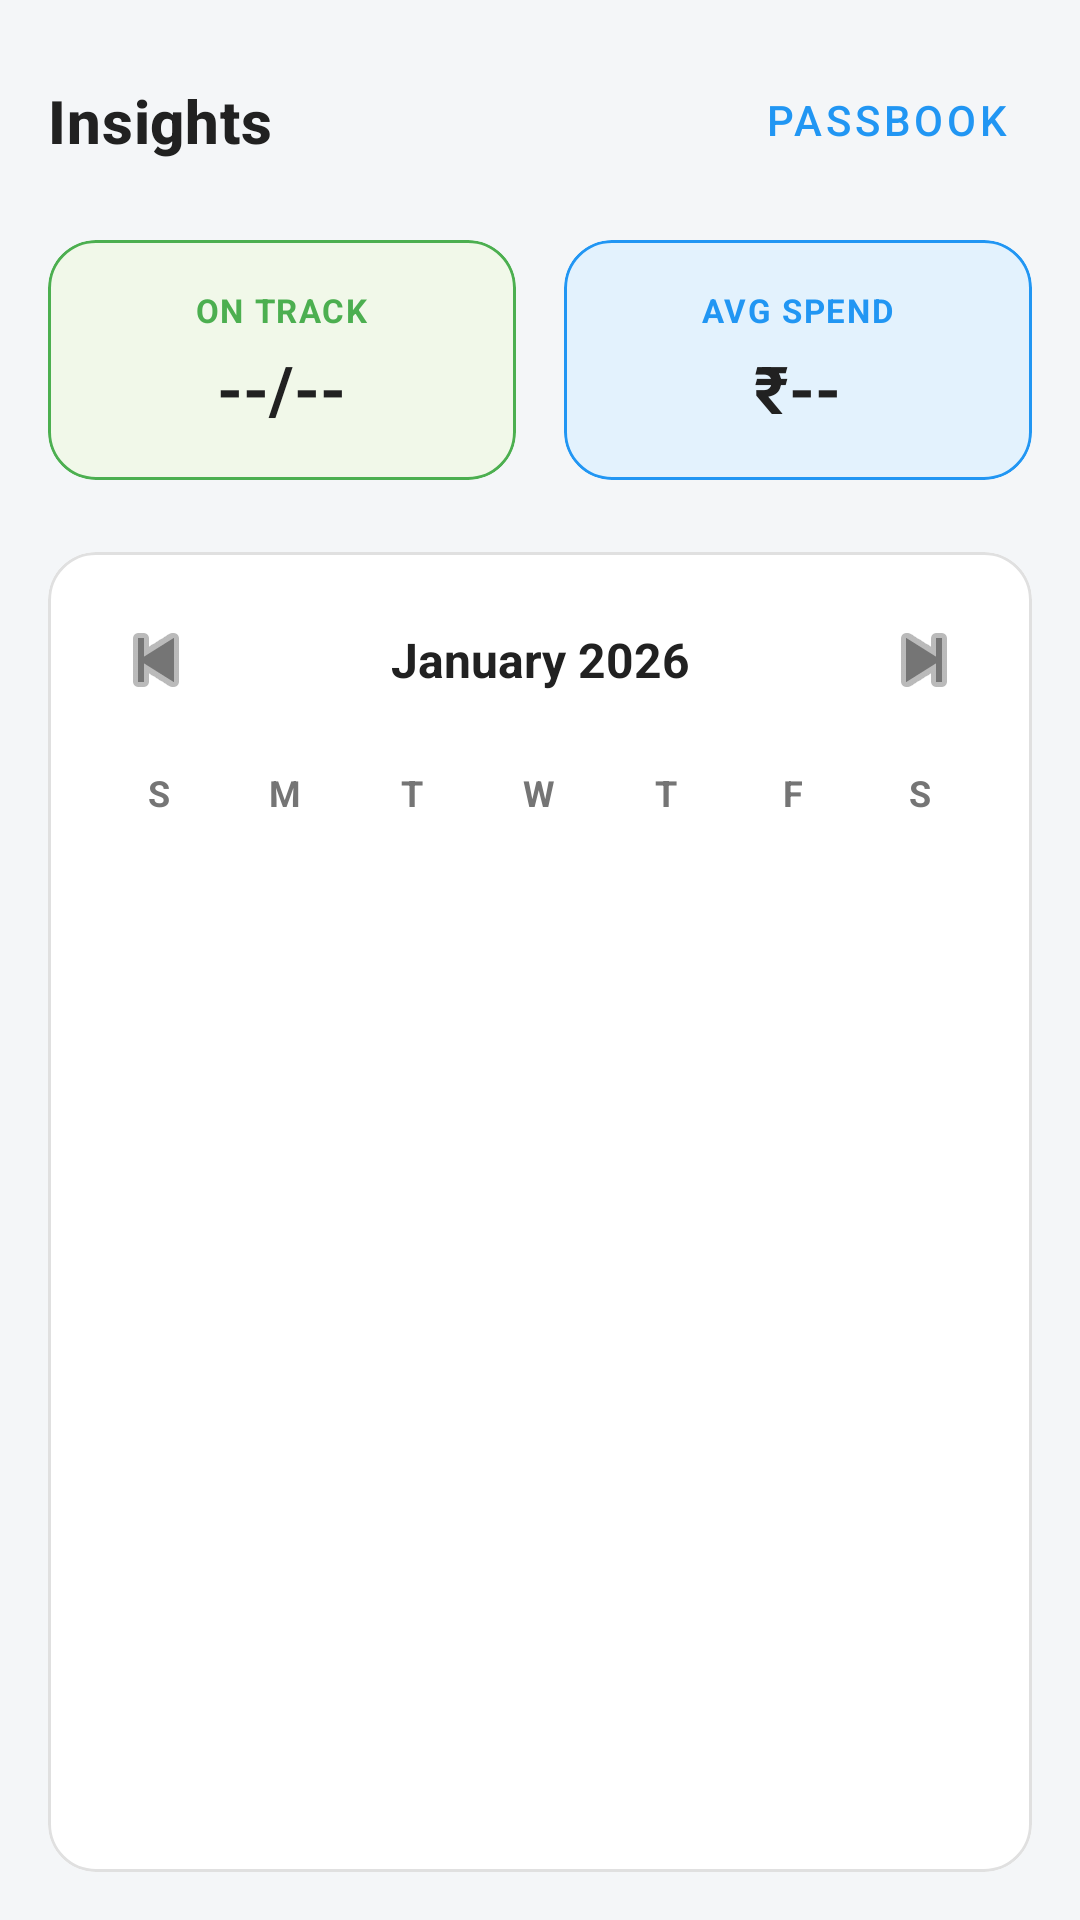

Point at icon controls on the screen. Image size 1080 x 1920, points as (x=x, y=y).
next: (x=924, y=660)
previous: (x=156, y=660)
